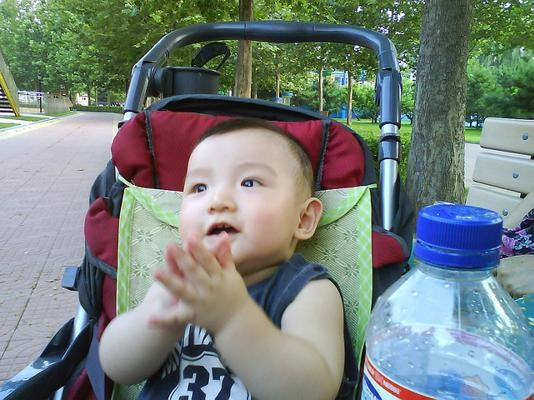person without safety: (97, 116, 353, 394)
